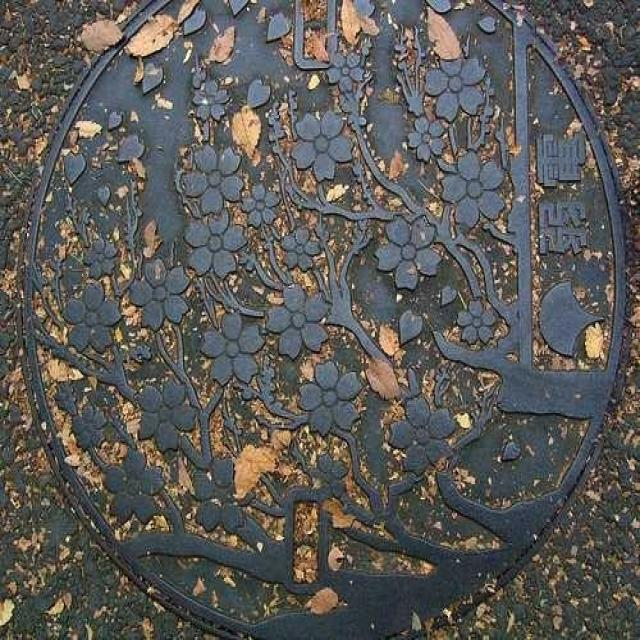manhole: (25, 0, 626, 637)
